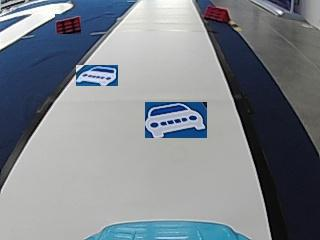bomb: (204, 6, 230, 23)
